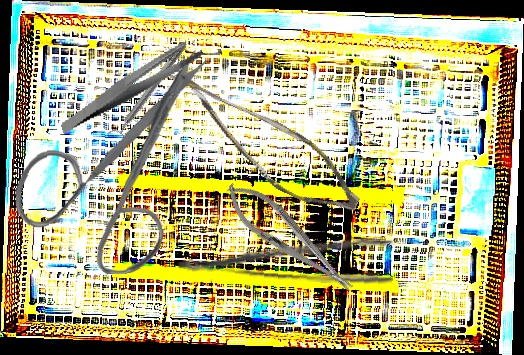Dressing Forceps: (48, 37, 214, 135), (176, 224, 396, 288)
Fixation Ring: (105, 39, 193, 146)
Iris Scissors: (7, 47, 222, 280)
Micro Scissor: (144, 64, 378, 223)
Needle Holder: (216, 172, 363, 305)
